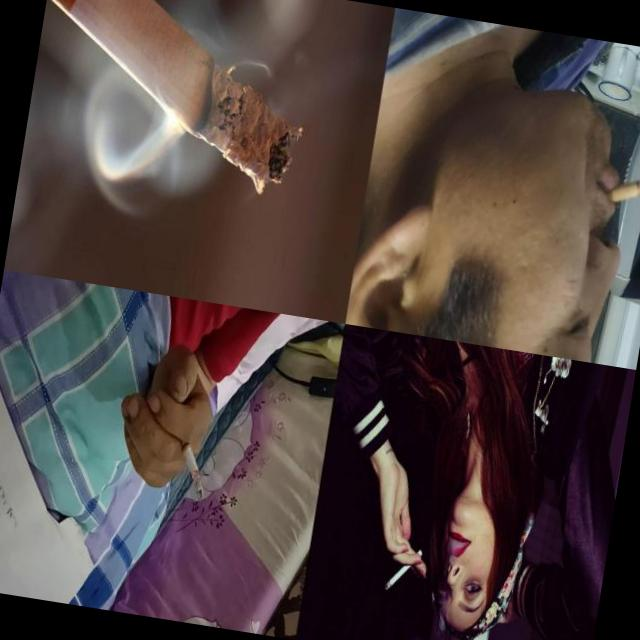cigarette: (21, 0, 324, 201), (169, 424, 214, 500), (606, 143, 640, 214), (381, 544, 424, 598)
